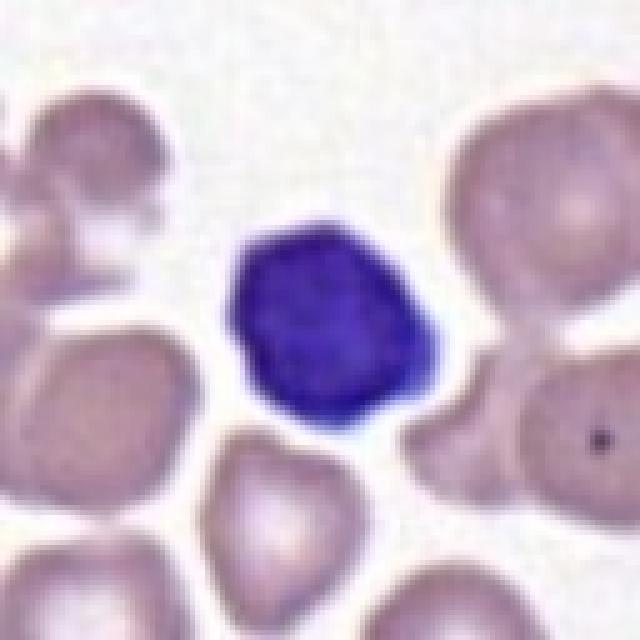lympho: (224, 214, 445, 432)
